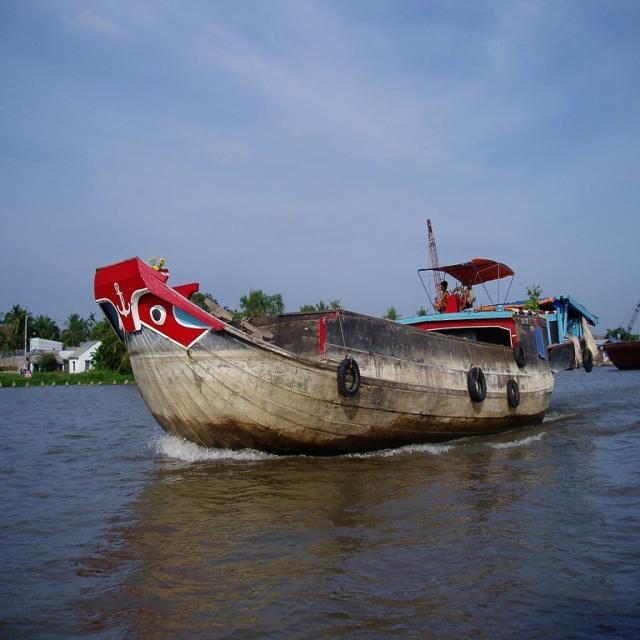Hyacinth: (7, 359, 132, 398)
boat: (94, 257, 542, 463)
